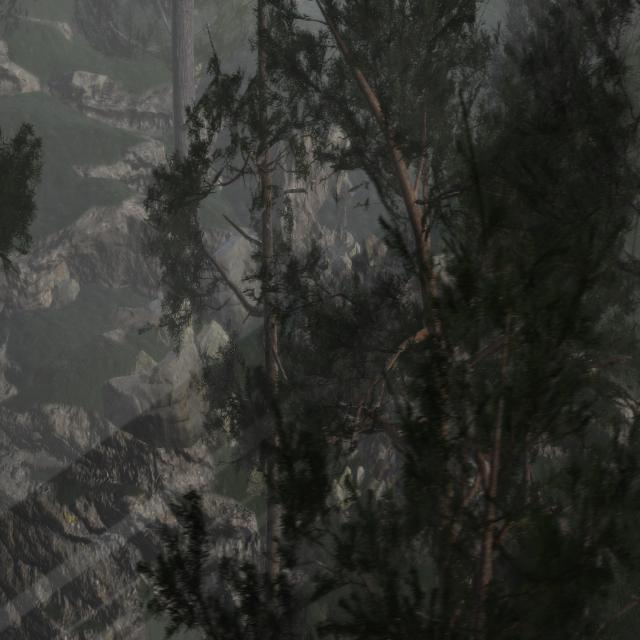Human: (254, 310, 272, 406)
